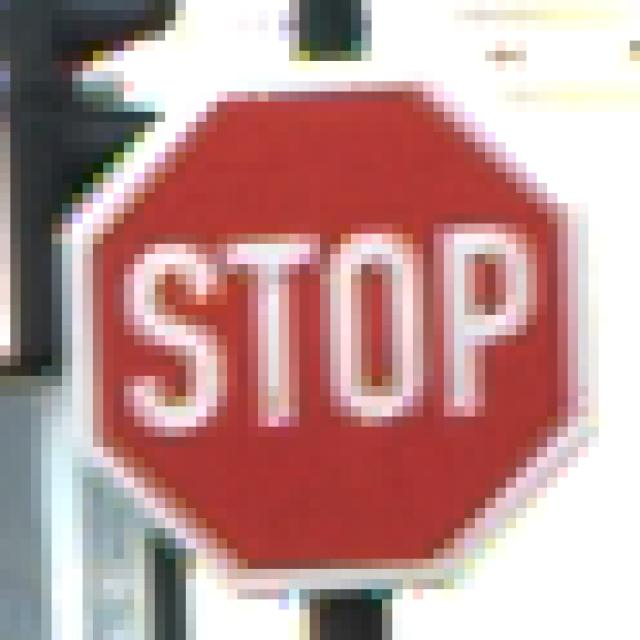stop: (90, 93, 580, 548)
